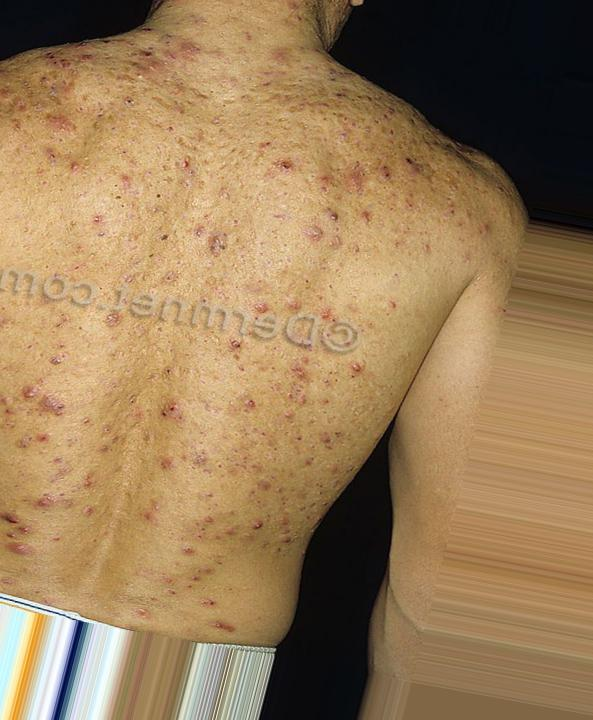Acne: (7, 93, 248, 317), (63, 59, 262, 240), (33, 481, 274, 628), (149, 309, 337, 477), (265, 145, 378, 281), (25, 295, 121, 449)
